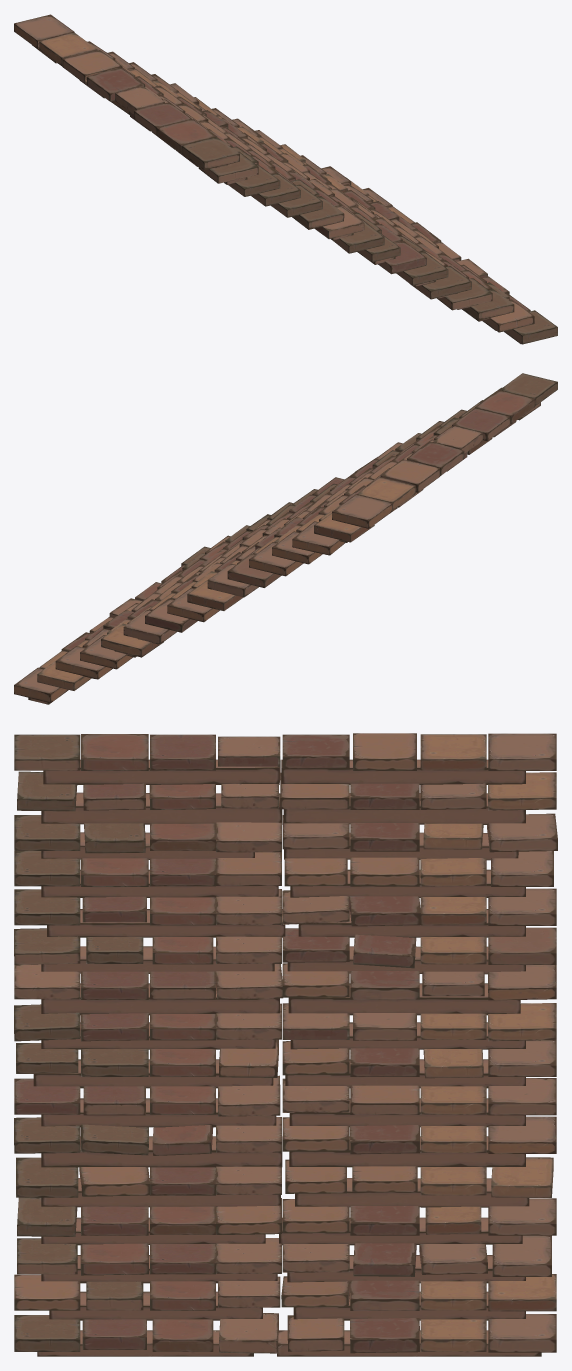
Rendered from brick-ramp.glb.
The picture shows the model from 3 angles, top to bottom: view 1: azimuth 30°, elevation 25°; view 2: azimuth 150°, elevation 25°; view 3: azimuth 270°, elevation 25°; orthographic projection. The views are drawn at different scales.
Visible parts, largest first — view 1: PBW_B1_StairW.dmx-static; view 2: PBW_B1_StairW.dmx-static; view 3: PBW_B1_StairW.dmx-static.
Boxes of the visible parts, x1,y1,x2,y2 form: PBW_B1_StairW.dmx-static: (14,14,557,344); PBW_B1_StairW.dmx-static: (14,373,557,704); PBW_B1_StairW.dmx-static: (14,733,557,1356).
Size of the model in its own units: 5.88 by 4.22 by 5.43.
1 material, 1 textured.
